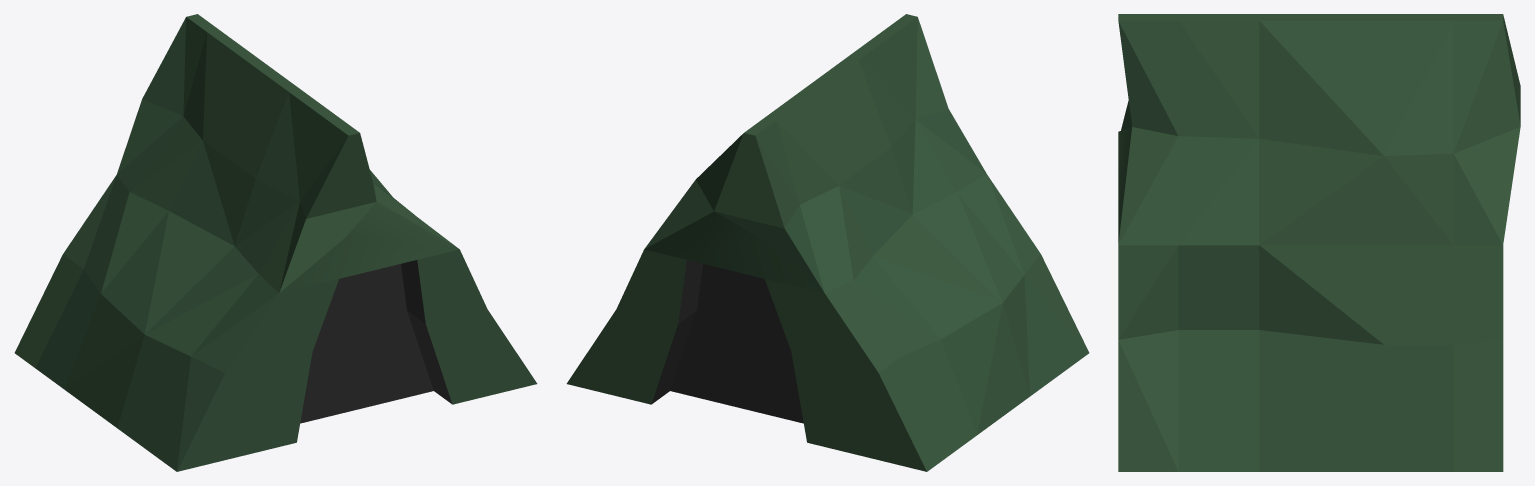
Rendered from Clonetrooper-tent.fbx.
3 views of the same model, side by side, from view 1: azimuth 30°, elevation 25°; view 2: azimuth 150°, elevation 25°; view 3: azimuth 270°, elevation 25° (orthographic). The views are drawn at different scales.
Parts seen in each view (by area): view 1: pCube1; view 2: pCube1; view 3: pCube1.
Boxes of the visible parts, left/top/right/bottom form: pCube1: left=14, top=14, right=537, bottom=471; pCube1: left=566, top=14, right=1089, bottom=471; pCube1: left=1118, top=14, right=1520, bottom=471.
Bounding box in the file's own units: 70.99 × 55.38 × 57.89.
